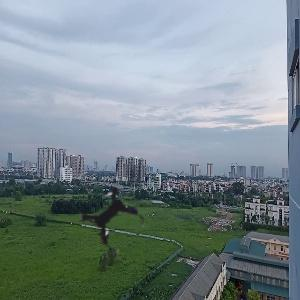drone: (52, 153, 176, 277)
